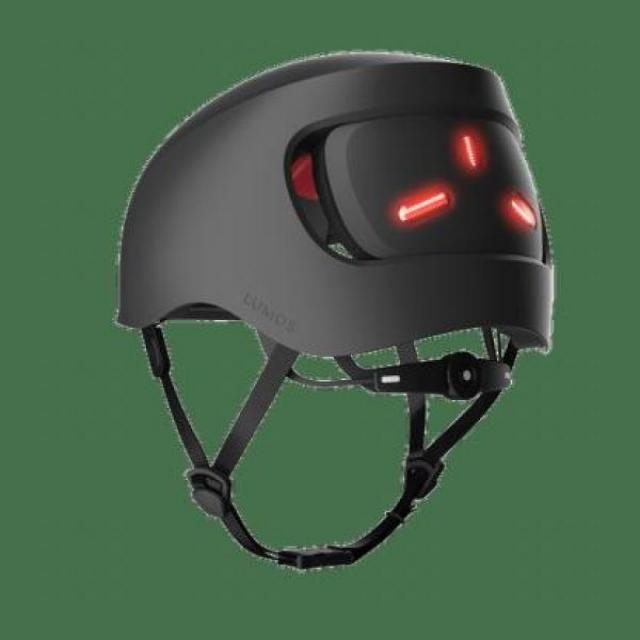Helmet: (114, 54, 559, 569)
